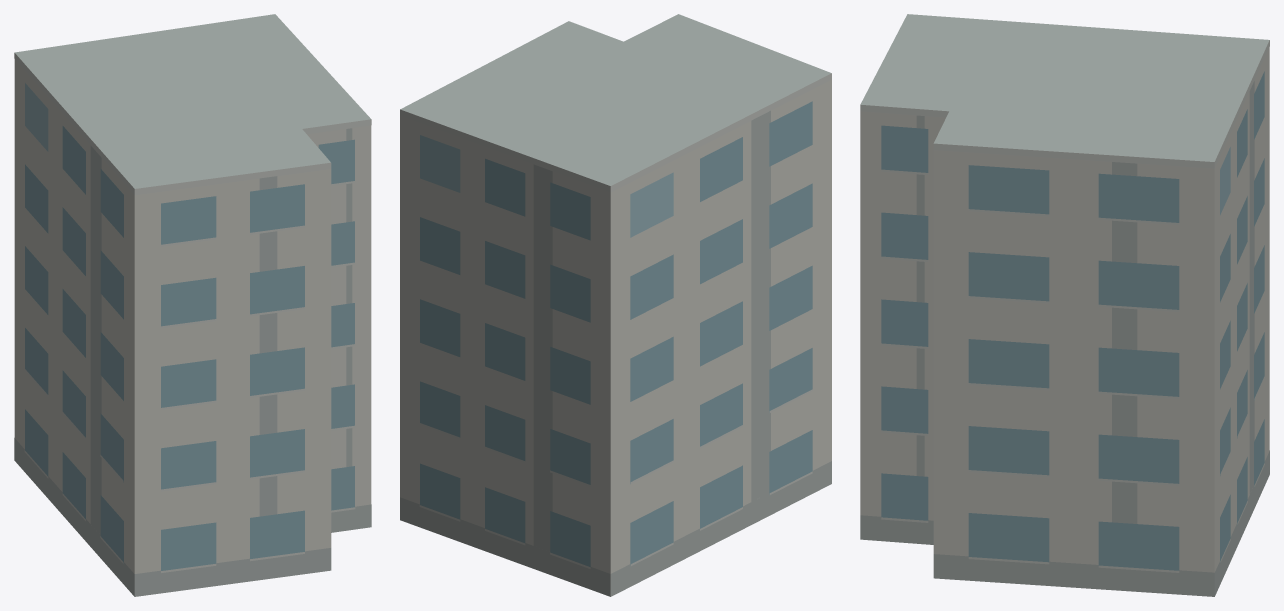
File: survey-upis-32875376.glb
The picture shows the model from 3 angles, left to right: view 1: azimuth 30°, elevation 25°; view 2: azimuth 150°, elevation 25°; view 3: azimuth 270°, elevation 25°; orthographic projection. The views are drawn at different scales.
Parts seen in each view (by area): view 1: survey-upis-32875376.tmp; view 2: survey-upis-32875376.tmp; view 3: survey-upis-32875376.tmp.
Boxes of the visible parts, bbox=[...] form: survey-upis-32875376.tmp: bbox=[14, 14, 371, 596]; survey-upis-32875376.tmp: bbox=[400, 14, 831, 596]; survey-upis-32875376.tmp: bbox=[860, 14, 1269, 596].
Bounding box in the file's own units: 11.7 × 16 × 13.67.
